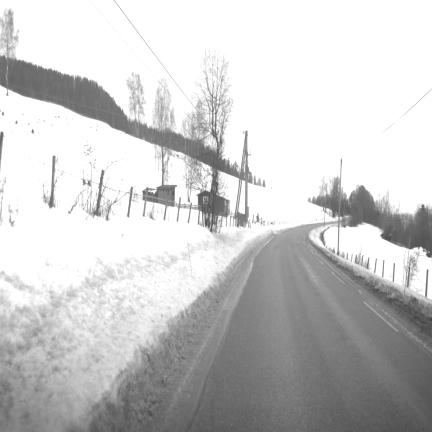Road: (190, 227, 431, 430)
